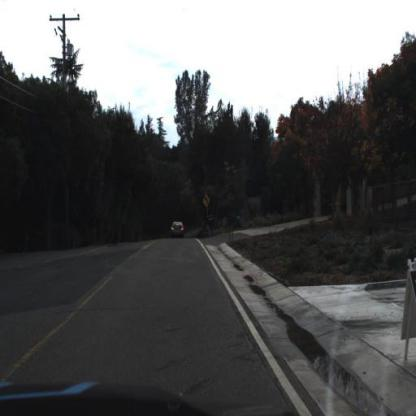car: (166, 215, 193, 242)
